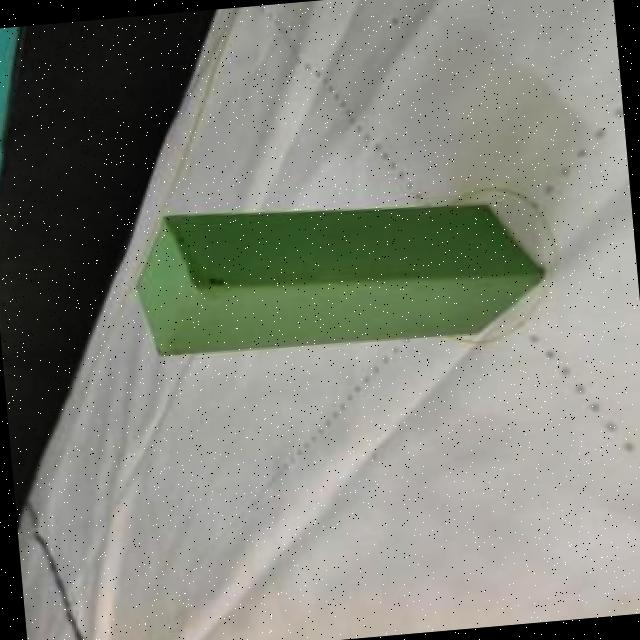greenbox: (125, 182, 550, 364)
